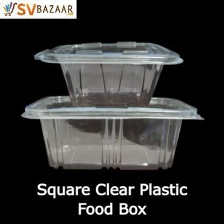plastic_box: (15, 87, 210, 177), (27, 33, 189, 111)
